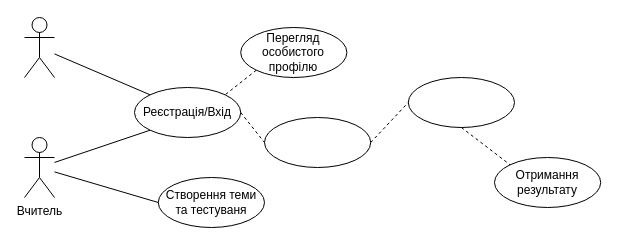
Some shapes in this 619 by 245 pixel diagram are drawn without their labels. The centre of each missing label's shape, as x and y in pixels:
Перегляд всіх тестувань: [317,142]
Проходження тестувань: [460,102]
Учень: [39,47]
